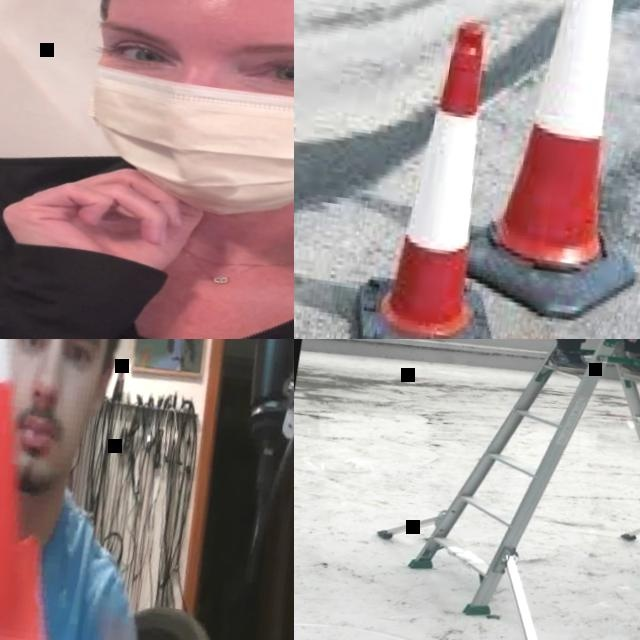Mask: (83, 21, 294, 231)
NO-Mask: (4, 396, 77, 490)
NO-Safety Vest: (0, 166, 294, 339), (11, 515, 121, 640)
Person: (0, 0, 294, 339), (0, 339, 200, 640)
Safety Cone: (350, 13, 538, 339), (456, 0, 640, 331), (0, 339, 139, 640)
